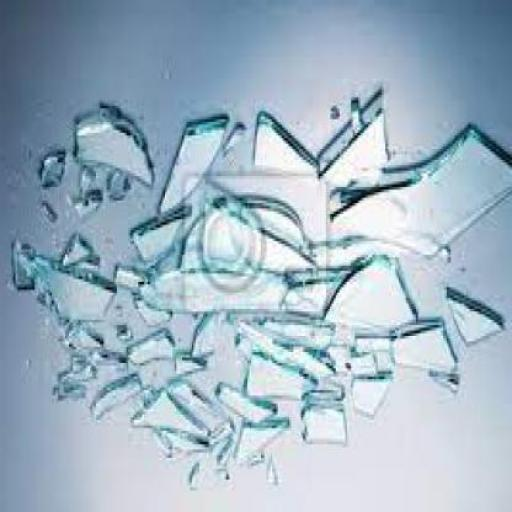glass: (327, 132, 511, 261), (182, 184, 320, 270), (140, 258, 290, 317), (328, 258, 424, 338), (161, 116, 232, 220), (74, 106, 156, 194), (238, 320, 332, 384), (29, 257, 115, 325), (324, 103, 391, 187), (254, 114, 320, 181), (232, 198, 308, 255), (391, 323, 462, 379), (447, 290, 508, 355), (130, 392, 211, 440), (249, 352, 318, 404), (132, 214, 192, 271), (282, 274, 347, 322), (171, 382, 227, 430), (261, 318, 337, 352), (88, 379, 142, 426), (301, 401, 348, 452), (354, 376, 402, 423), (221, 384, 276, 422), (16, 242, 52, 300), (240, 426, 289, 468), (159, 423, 211, 461), (196, 316, 238, 363), (59, 317, 106, 357), (343, 238, 407, 265), (132, 339, 178, 374), (320, 242, 362, 280), (52, 371, 88, 409), (42, 287, 69, 336), (137, 296, 176, 328), (43, 152, 67, 193), (314, 384, 349, 412), (66, 241, 96, 273), (118, 271, 150, 300), (92, 354, 132, 376), (353, 336, 393, 358), (345, 358, 380, 380), (72, 198, 104, 222), (108, 171, 132, 203), (178, 358, 210, 382), (224, 128, 246, 160), (76, 355, 96, 390), (209, 444, 234, 472), (432, 376, 462, 398), (77, 260, 101, 282), (238, 339, 253, 371), (350, 106, 364, 138), (44, 206, 59, 233), (88, 168, 100, 200), (194, 468, 207, 493), (441, 246, 455, 266), (270, 466, 280, 493), (122, 330, 132, 349), (228, 422, 236, 442), (121, 312, 126, 319)
